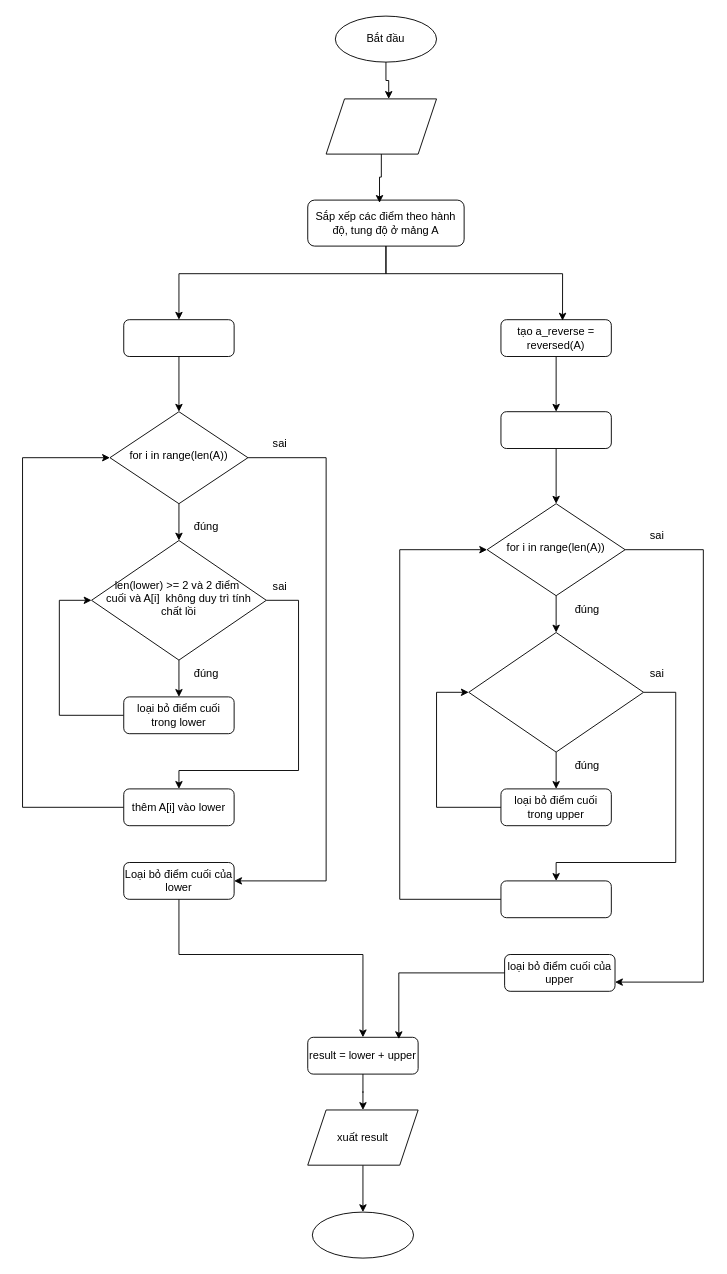
This 727x1274 diagram has some shape labels left out. Here are the shapes that lost their labels. From the top down, the box of each, then its label:
(325, 98, 437, 154): Nhập mảng A các điểm
(123, 319, 234, 356): tạo lower[]
(500, 411, 611, 448): tạo upper[]
(468, 632, 644, 752): len(upper) >= 2 và 2 điểm cuối và a_reverse[i] không duy trì tính chất lồi
(500, 880, 611, 918): thêm a_reverse[i] vào upper
(311, 1211, 414, 1258): kết thúc
